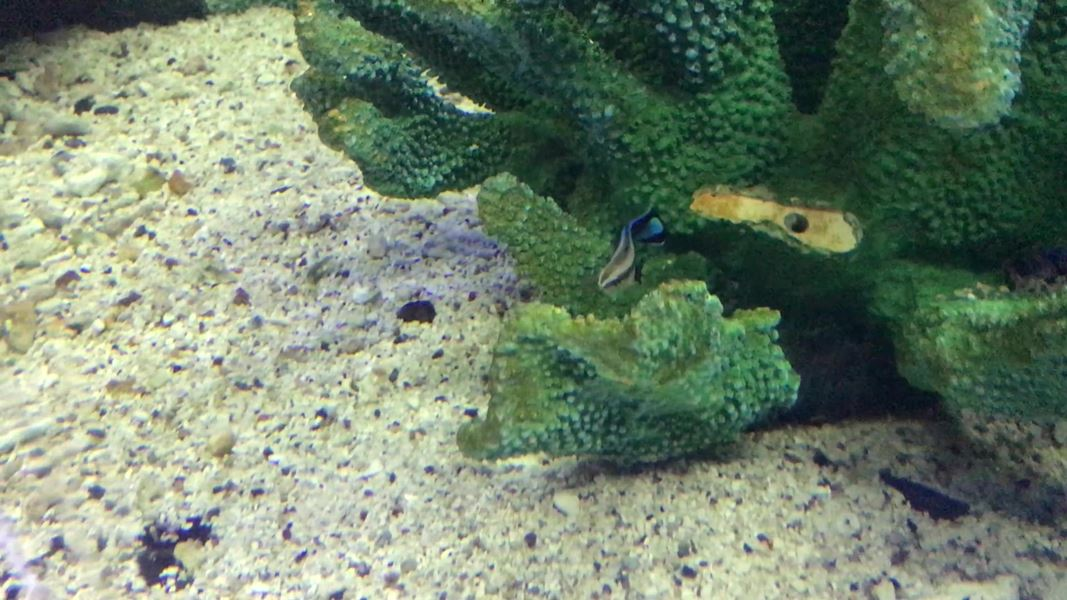Bluesteak cleaner wrasse: (600, 196, 677, 301)
